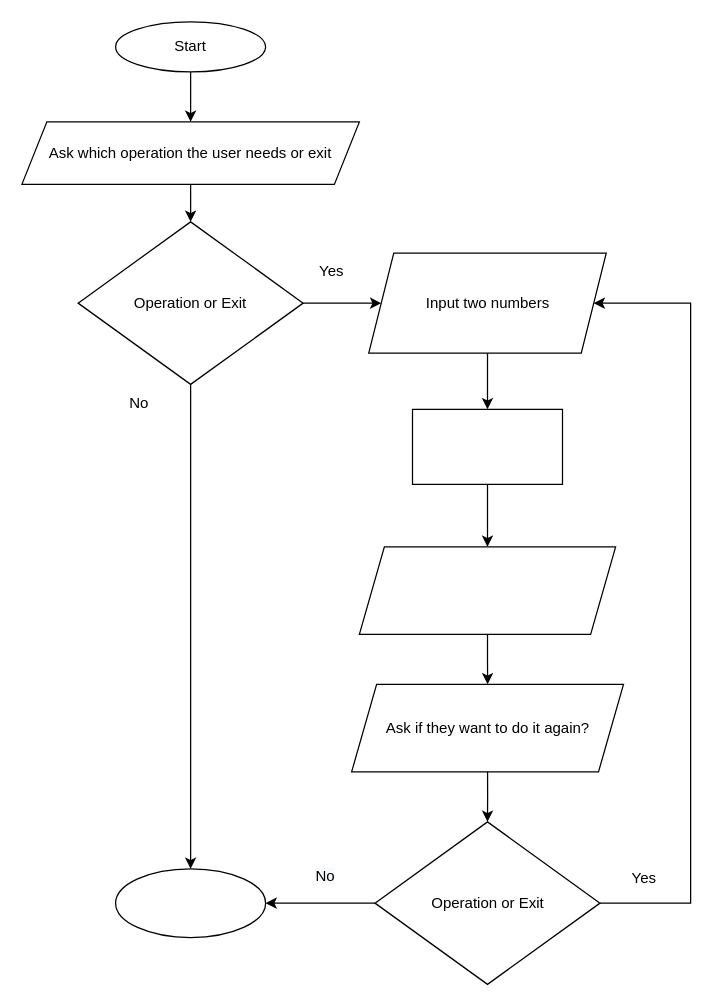
Some shapes in this 723 by 1006 pixel diagram are drawn without their labels. The shapes that lost their labels are listed below. From the top down, each one's box as (x1, y1, x2, y2) in pixels, then its label:
(411, 408, 562, 484): Work out answer
(358, 546, 616, 634): Display answer
(114, 868, 266, 938): Exit
